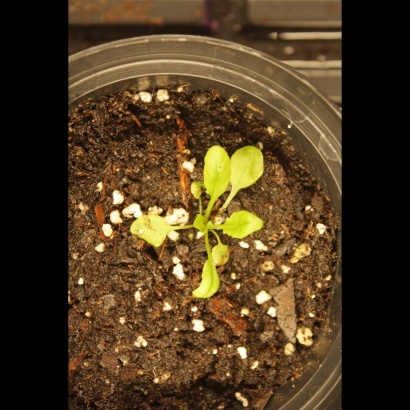leaf: (226, 141, 267, 200), (124, 209, 174, 256), (183, 253, 229, 302), (198, 139, 233, 203), (219, 206, 268, 242), (206, 238, 236, 268), (189, 210, 215, 236), (183, 176, 211, 200)
